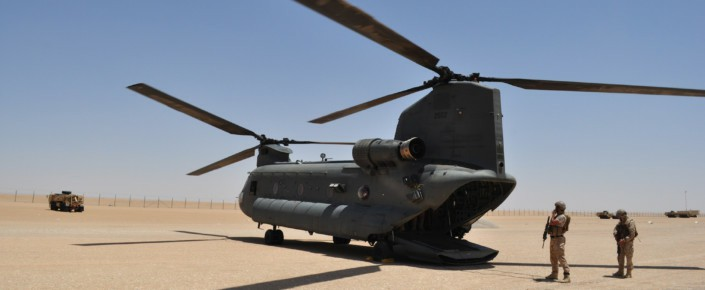chinook: (124, 14, 543, 269)
